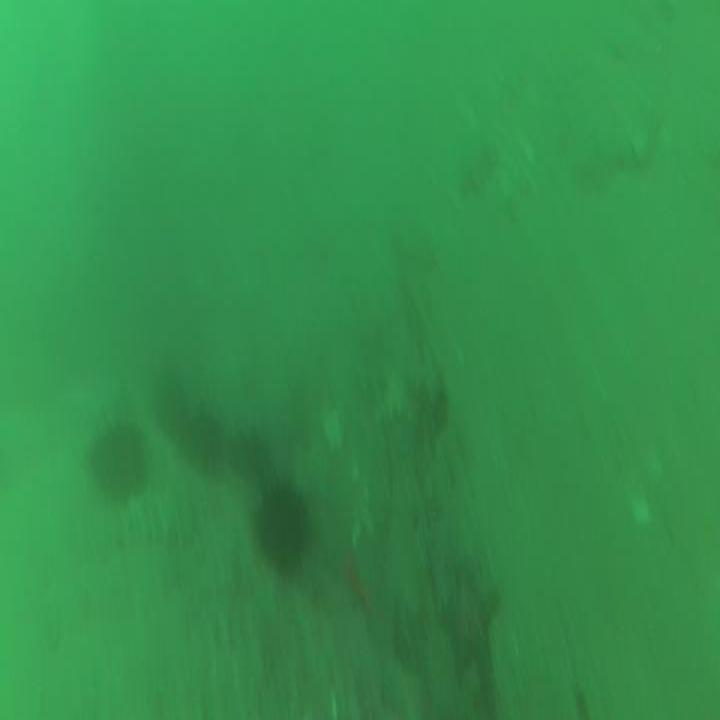echinus: (88, 416, 143, 501), (259, 487, 310, 576), (150, 377, 190, 443), (180, 414, 227, 468), (231, 432, 262, 480)
starfish: (441, 567, 499, 685)
